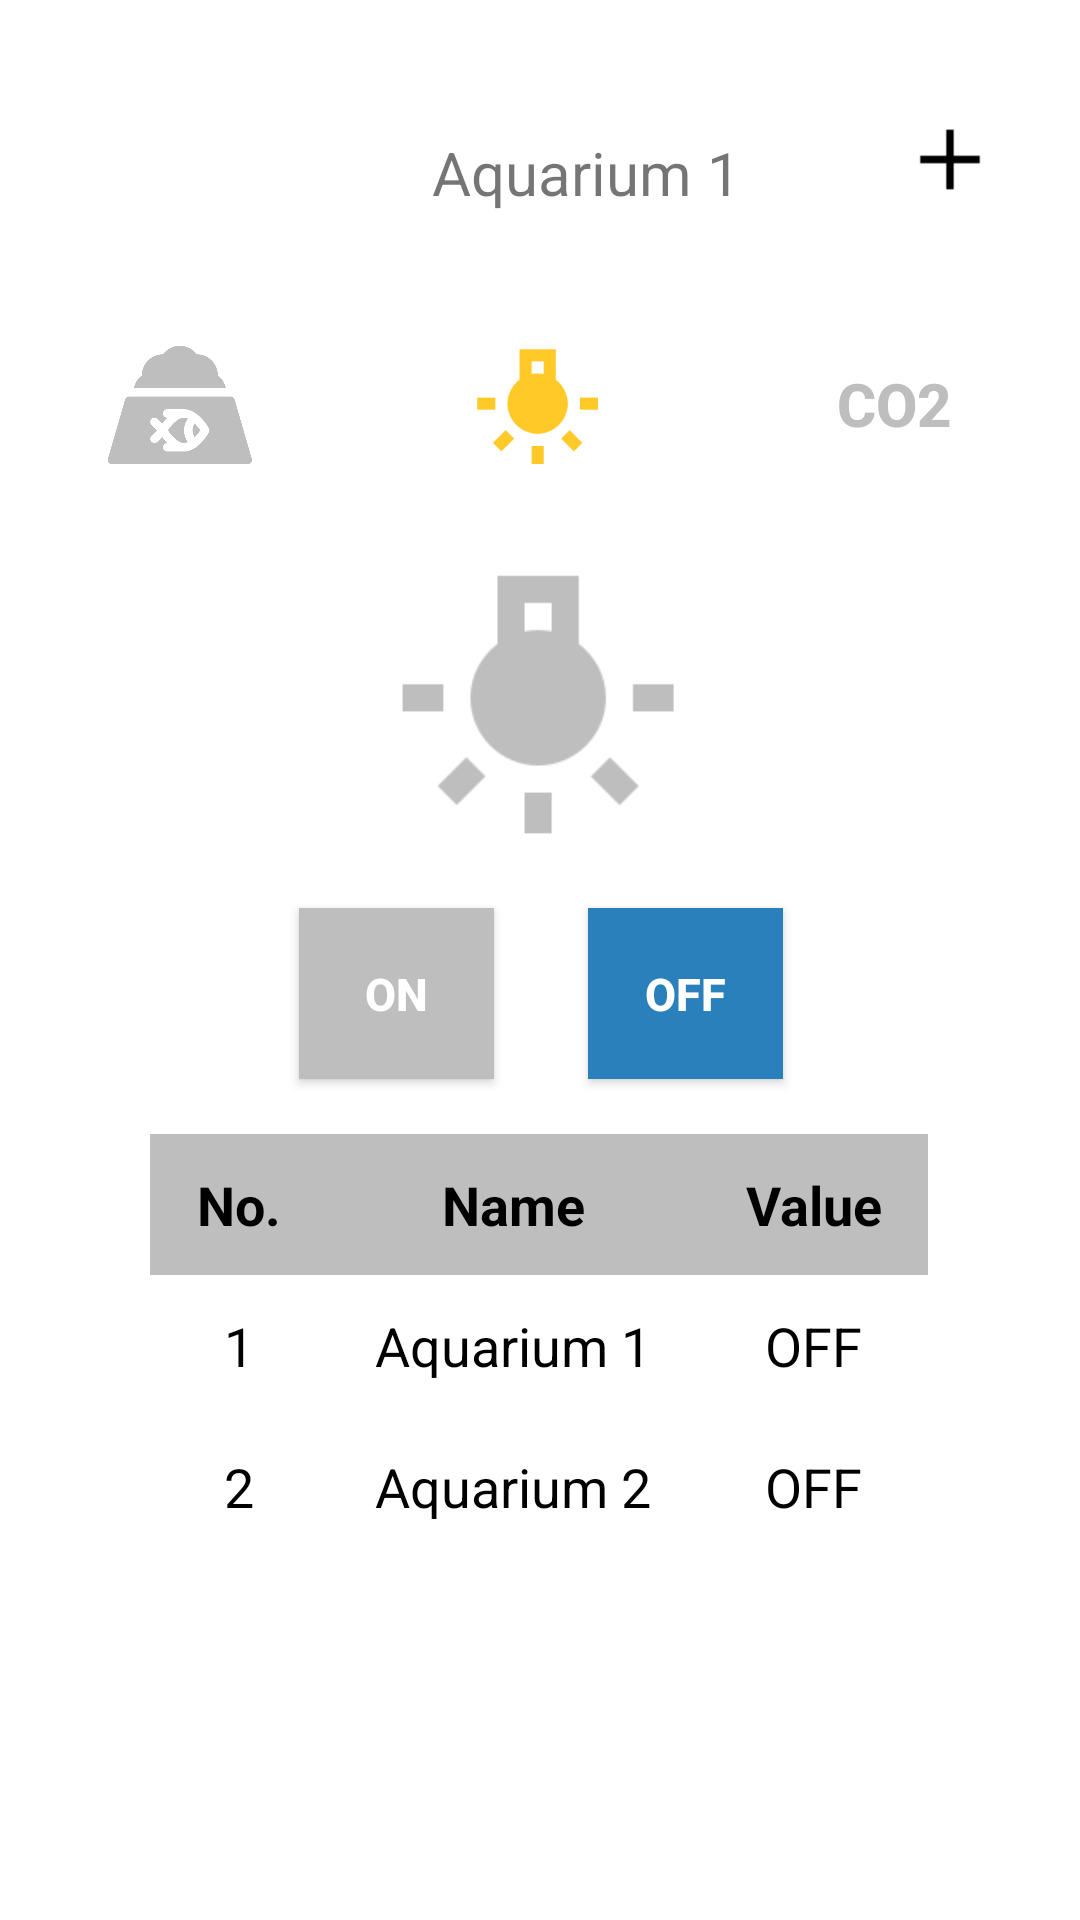

Where to tap for icons on this 1080*1920 app screen, as (x,y):
feeding: (180,405)
led: (537,406), (538,705)
plus: (950,159)
